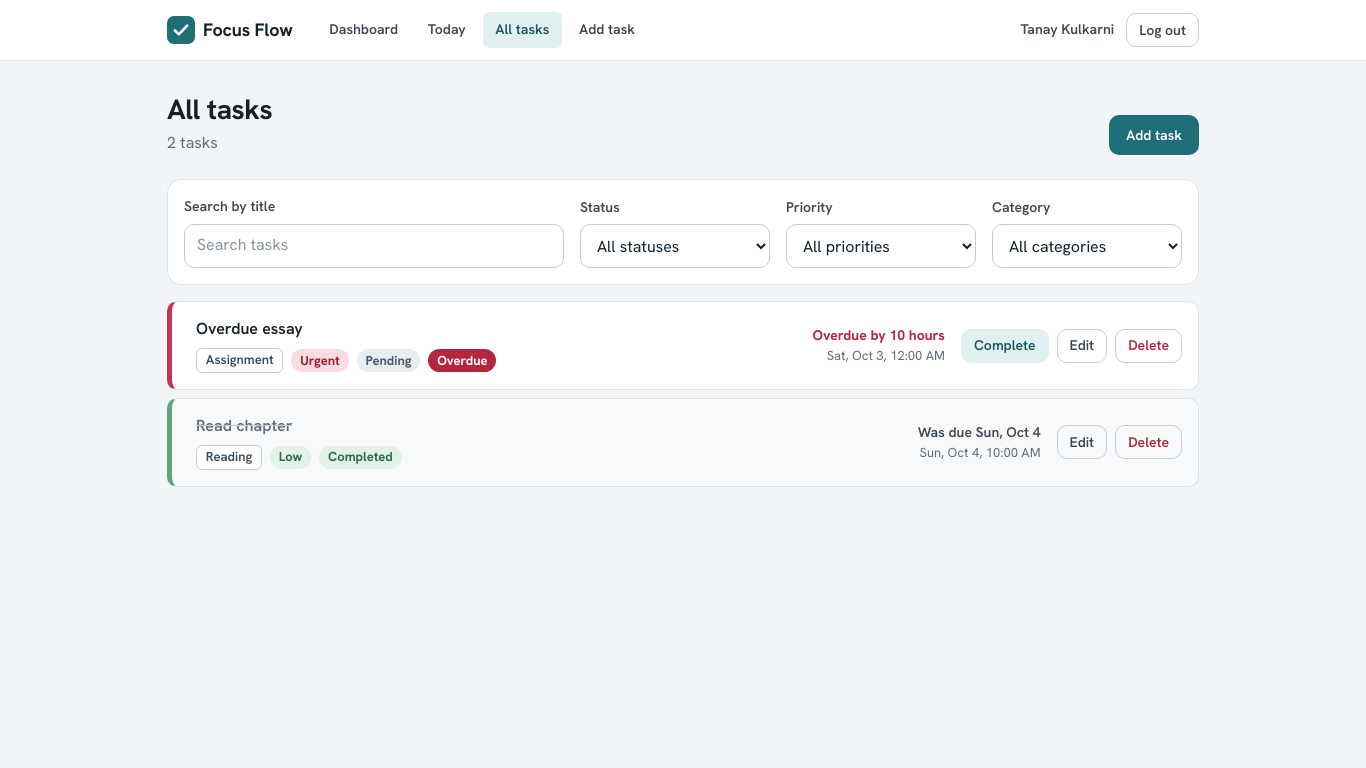
all tasks page › completes a task
The image size is (1366, 768).
Click the button named "Mark \"Overdue essay\" as completed" at [1005, 346], box [961,328,1048,362]
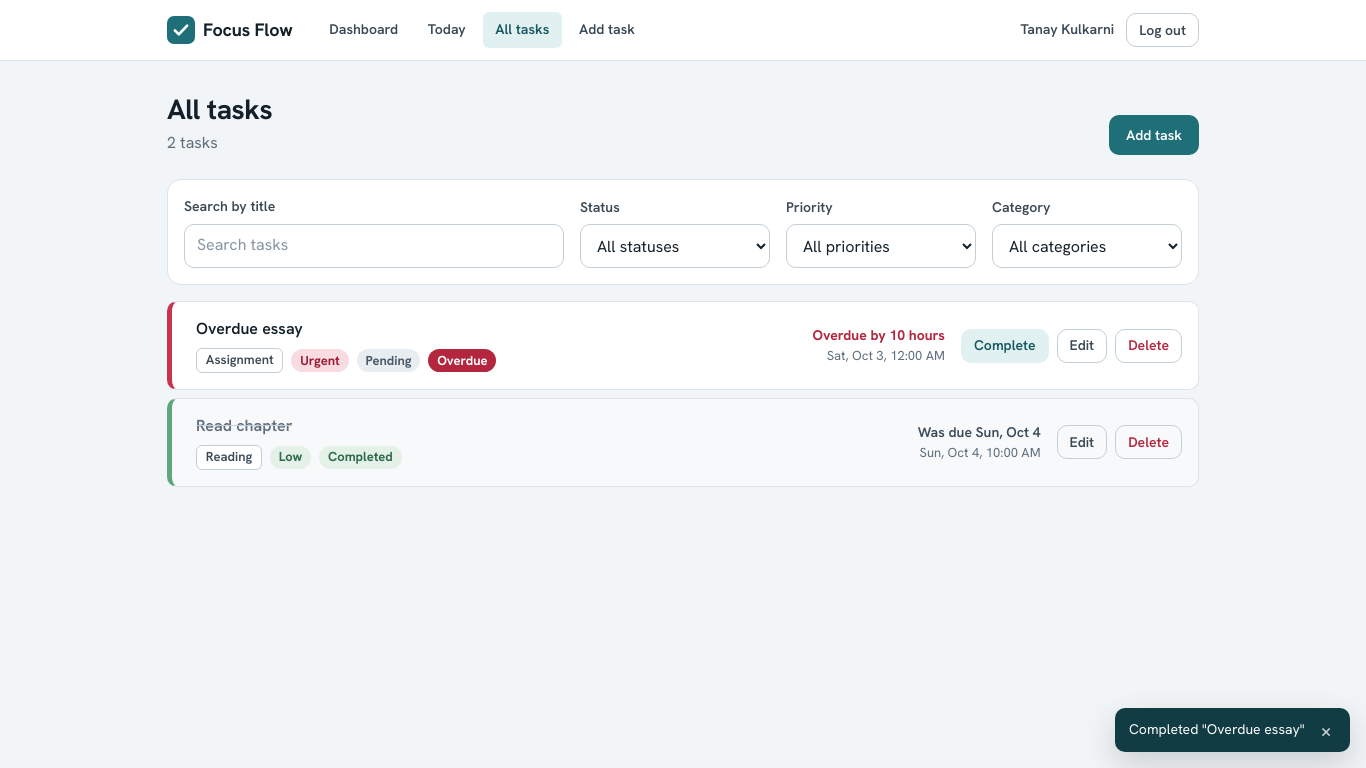
Now the text "Completed \"Overdue essay\"" is shown, box [1129,719,1304,741]
